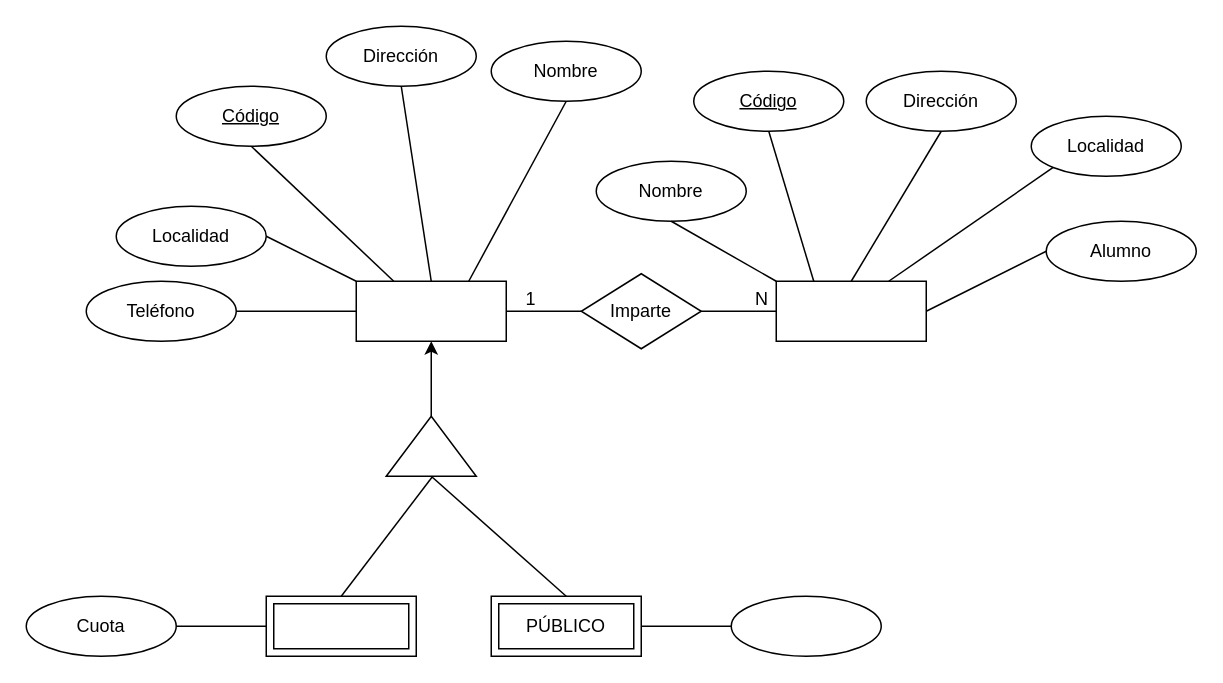
Some shapes in this 1223 by 683 pixel diagram are drawn without their labels. Here are the shapes that lost their labels. From the top down, the box of each, then its label:
(355, 280, 506, 341): CENTRO
(775, 280, 926, 341): PROFESOR
(385, 415, 476, 476): DT
(265, 595, 416, 656): PRIVADO
(730, 595, 881, 656): Presupuesto
